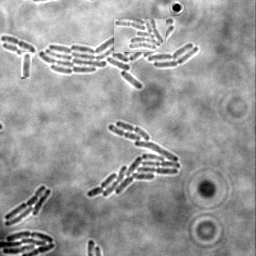Dividing: (1, 34, 37, 52), (3, 41, 33, 57), (21, 52, 32, 79)
Microcolony: (40, 18, 199, 89), (87, 120, 181, 197), (5, 184, 52, 226), (114, 19, 166, 52), (1, 230, 56, 255)
